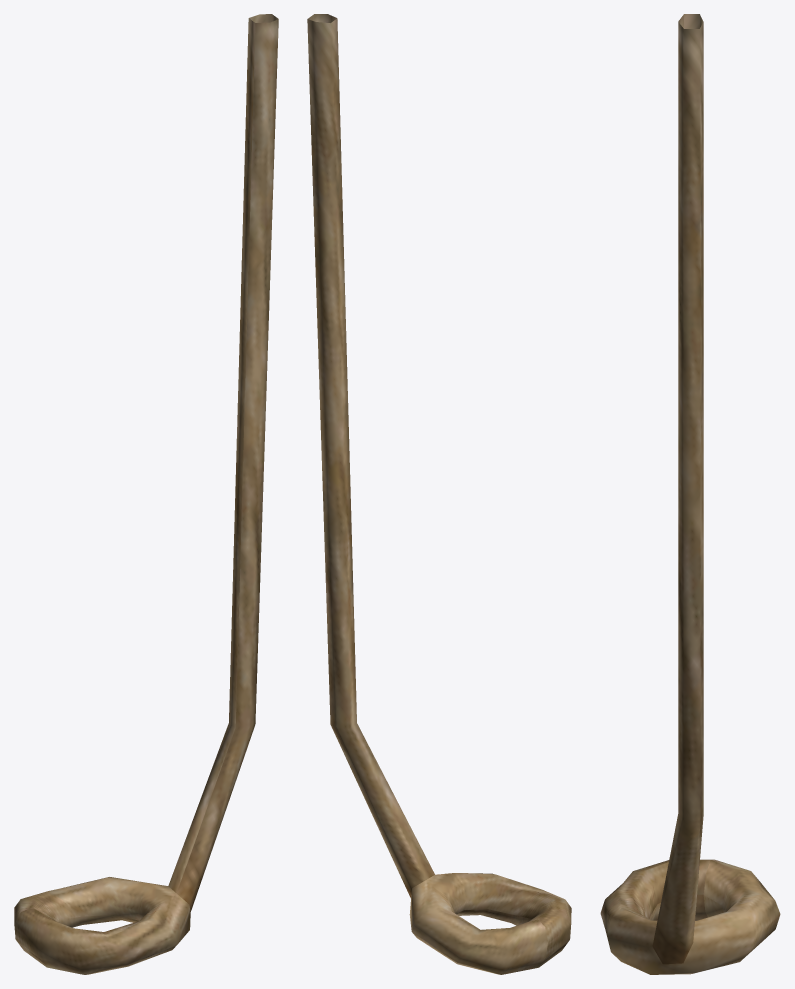
The model's file is SM_Dolls_Barbie_1_rope.fbx.
3 views of the same model, side by side, from view 1: azimuth 30°, elevation 25°; view 2: azimuth 150°, elevation 25°; view 3: azimuth 270°, elevation 25° (orthographic). The views are drawn at different scales.
Visible parts, largest first — view 1: SM_Dolls_Barbie_1_rope; view 2: SM_Dolls_Barbie_1_rope; view 3: SM_Dolls_Barbie_1_rope.
Boxes of the visible parts, x1,y1,x2,y2 form: SM_Dolls_Barbie_1_rope: [14, 14, 278, 974]; SM_Dolls_Barbie_1_rope: [307, 14, 571, 974]; SM_Dolls_Barbie_1_rope: [600, 14, 780, 974].
Size of the model in its own units: 4.99 by 2.72 by 17.03.
1 material, 1 textured.
